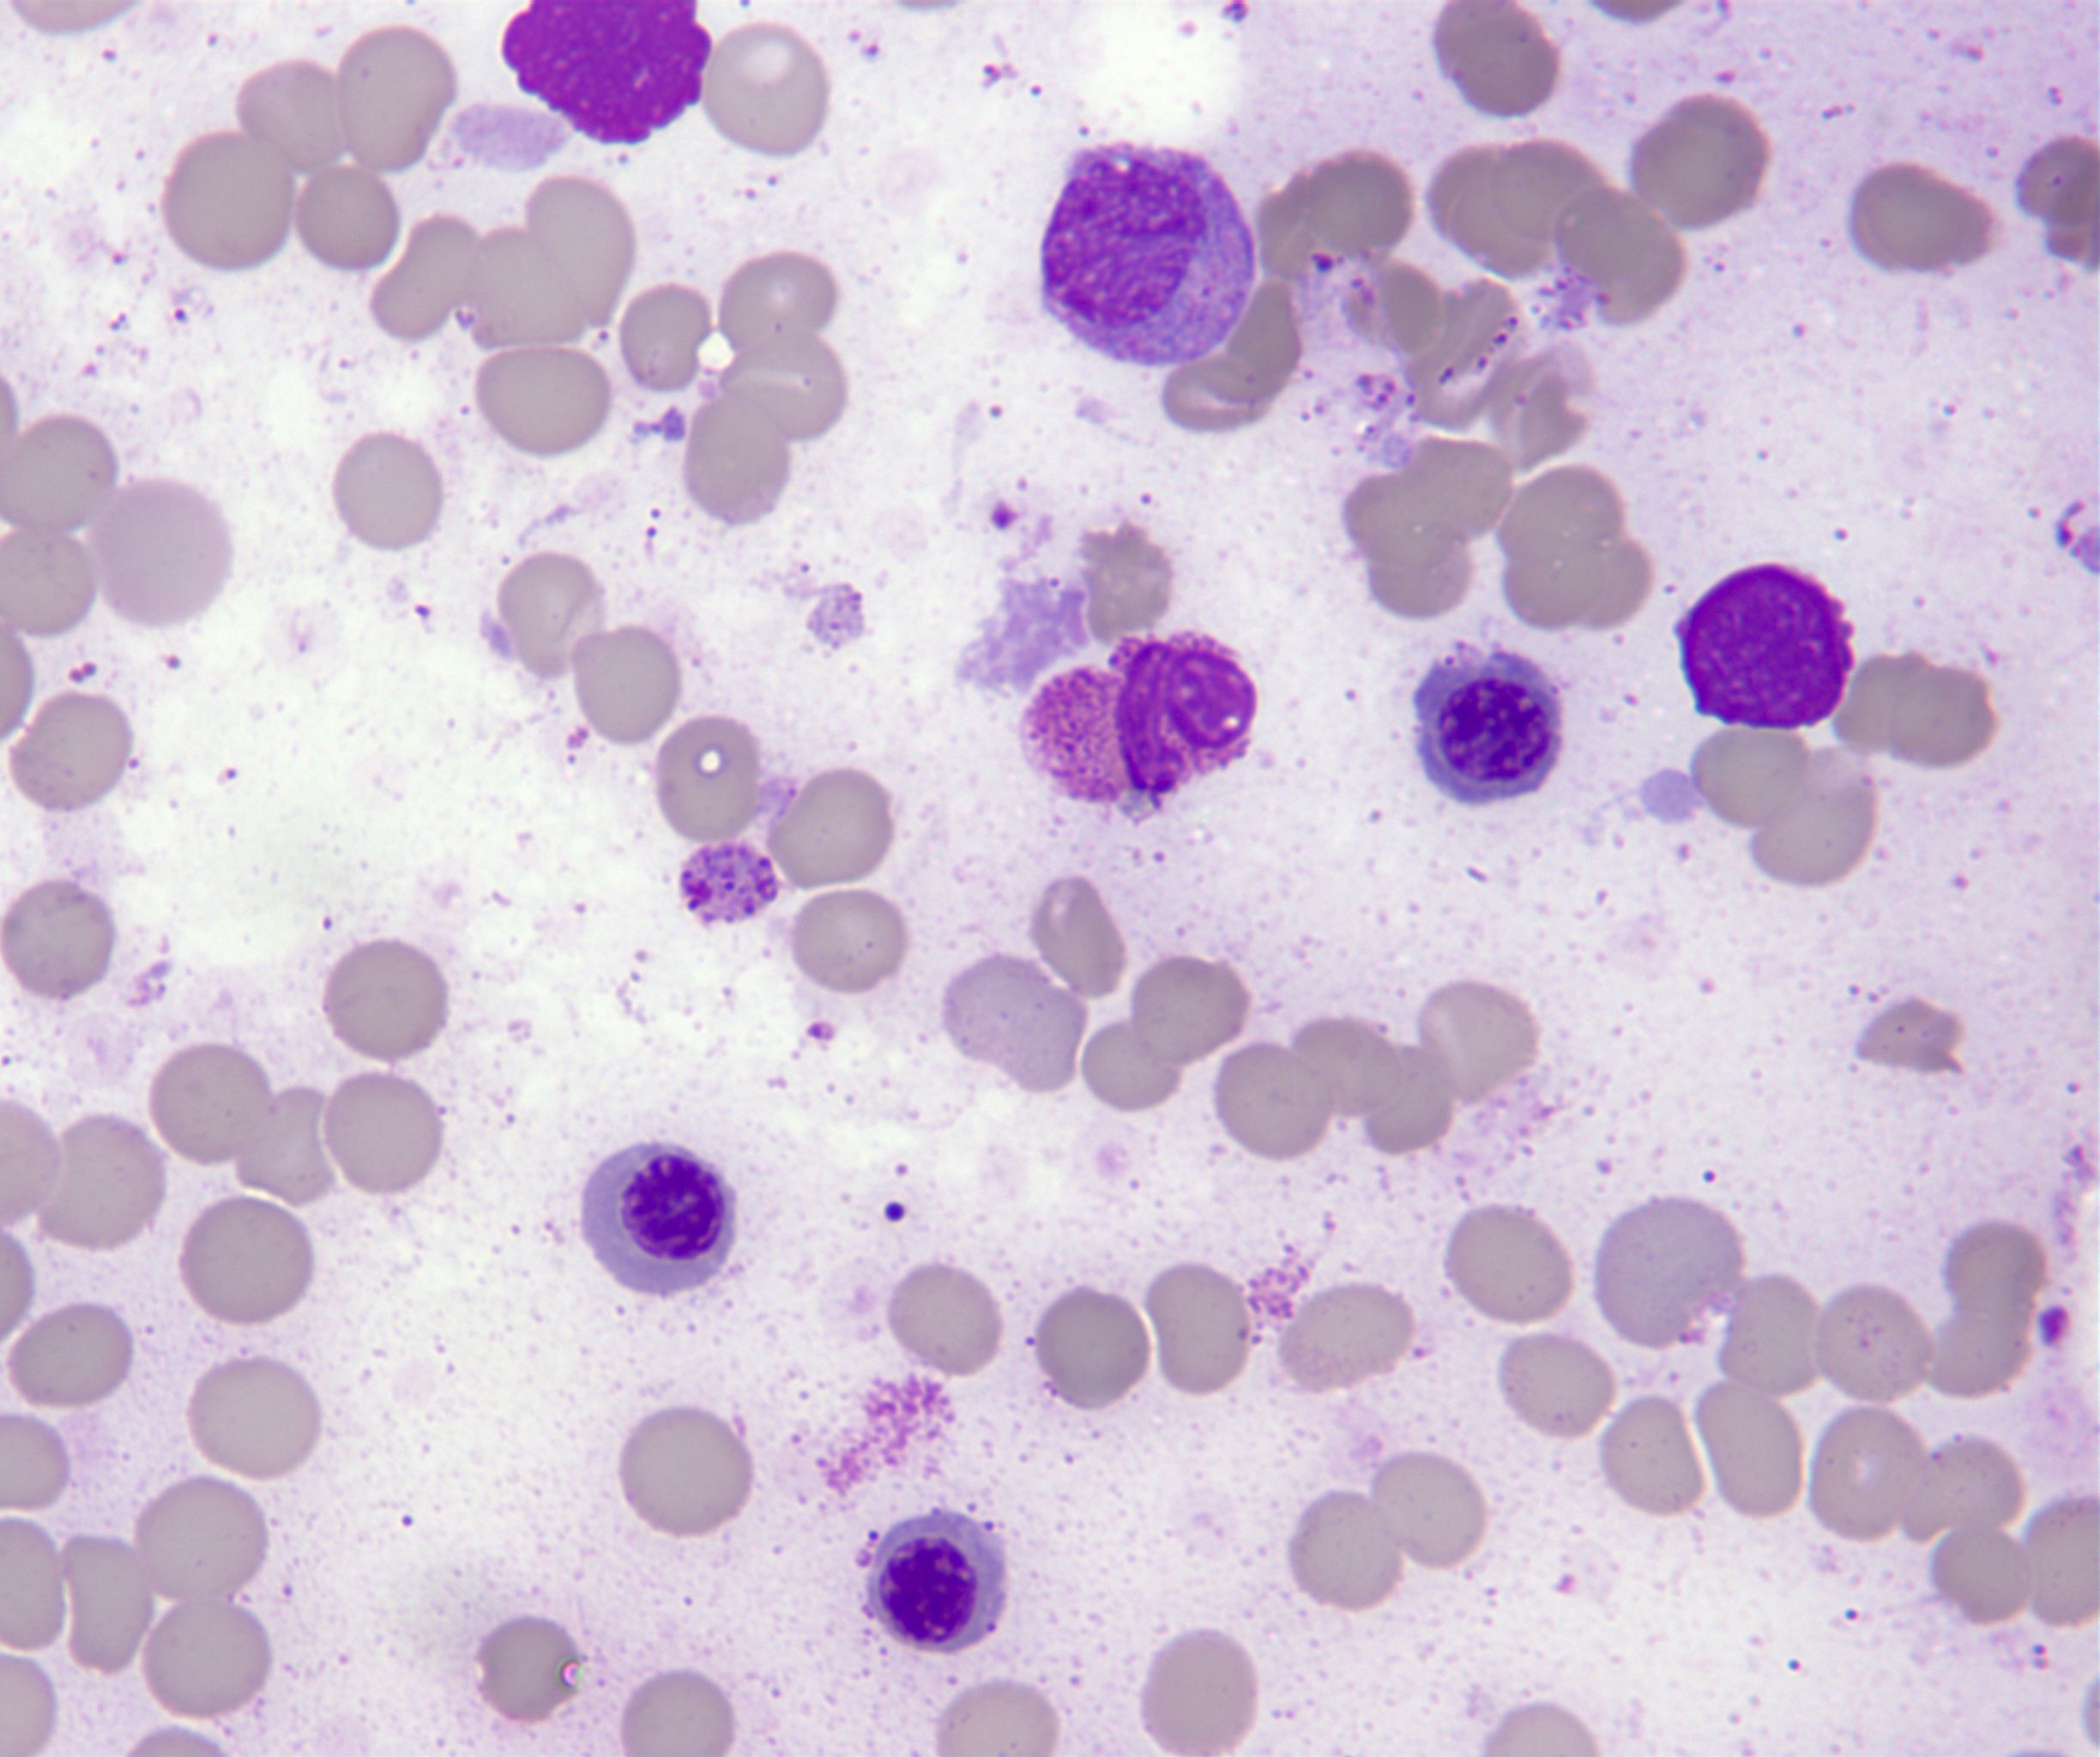23: (1413, 649, 1563, 804), (584, 1145, 733, 1295), (867, 1513, 1001, 1658)
42: (1041, 147, 1258, 365)
x: (1019, 635, 1254, 804), (1674, 564, 1858, 729), (504, 3, 710, 147)
